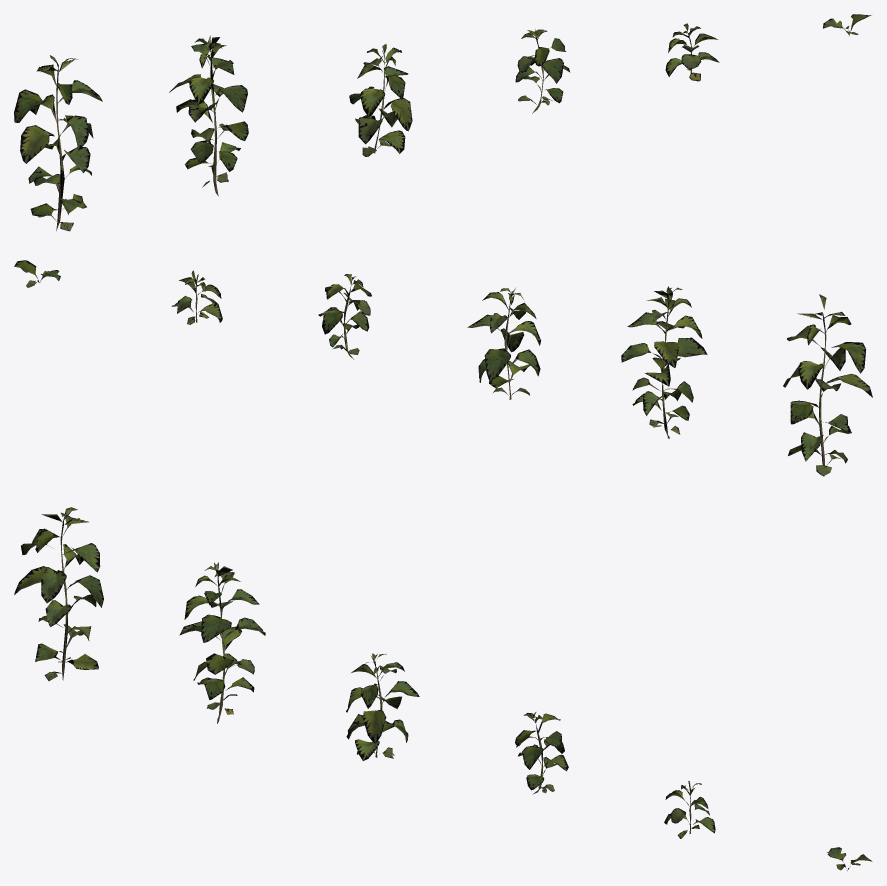
Rendered from nettle_plant.glb.
3 renders of one model, top to bottom at view 1: azimuth 30°, elevation 25°; view 2: azimuth 150°, elevation 25°; view 3: azimuth 330°, elevation 25°, orthographic.
Parts seen in each view (by area): view 1: nettle_plant_tall_a_LOD0, nettle_plant_tall_b_LOD0, nettle_plant_medium_a_LOD0, nettle_plant_medium_b_LOD0, nettle_plant_small_a_LOD0; view 2: nettle_plant_tall_a_LOD0, nettle_plant_tall_b_LOD0, nettle_plant_medium_a_LOD0, nettle_plant_medium_b_LOD0, nettle_plant_small_a_LOD0; view 3: nettle_plant_tall_a_LOD0, nettle_plant_tall_b_LOD0, nettle_plant_medium_a_LOD0, nettle_plant_medium_b_LOD0, nettle_plant_small_a_LOD0.
Part boxes in pixels (x1,y1,x2,y2): nettle_plant_tall_a_LOD0: [14, 55, 102, 231]; nettle_plant_tall_b_LOD0: [169, 35, 248, 196]; nettle_plant_medium_a_LOD0: [349, 44, 412, 156]; nettle_plant_medium_b_LOD0: [515, 29, 570, 113]; nettle_plant_small_a_LOD0: [665, 23, 719, 81]; nettle_plant_tall_a_LOD0: [783, 294, 872, 476]; nettle_plant_tall_b_LOD0: [621, 286, 707, 438]; nettle_plant_medium_a_LOD0: [467, 288, 540, 399]; nettle_plant_medium_b_LOD0: [318, 274, 371, 359]; nettle_plant_small_a_LOD0: [171, 270, 222, 324]; nettle_plant_tall_a_LOD0: [14, 507, 103, 680]; nettle_plant_tall_b_LOD0: [179, 562, 265, 723]; nettle_plant_medium_a_LOD0: [346, 653, 419, 760]; nettle_plant_medium_b_LOD0: [515, 712, 568, 794]; nettle_plant_small_a_LOD0: [664, 781, 715, 838].
Size of the model in its own units: 1.08 by 0.2148 by 0.0947.
1 material, 1 textured.
